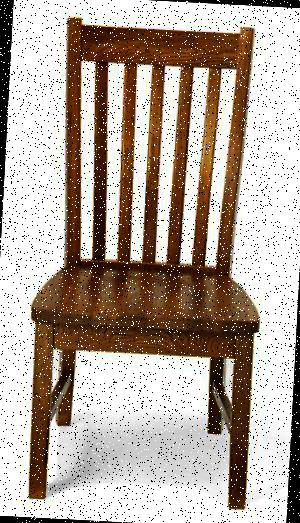Silla: (24, 16, 277, 506)
